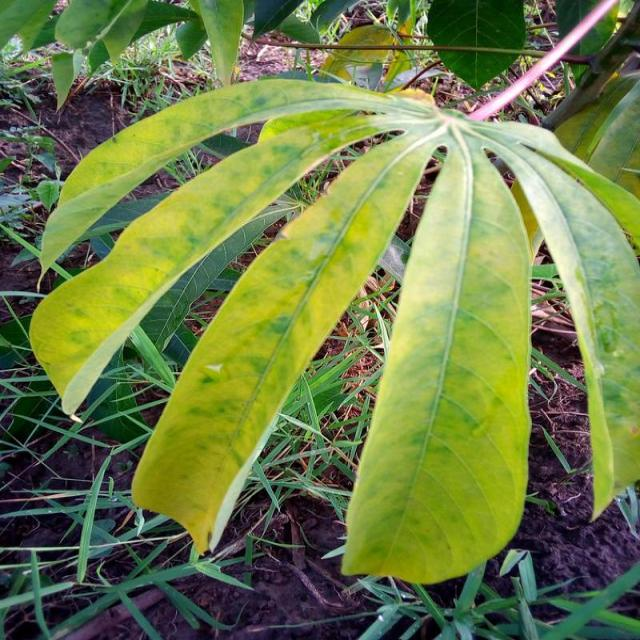cassava leaf: (28, 72, 638, 582), (128, 109, 442, 556), (340, 132, 533, 585)
